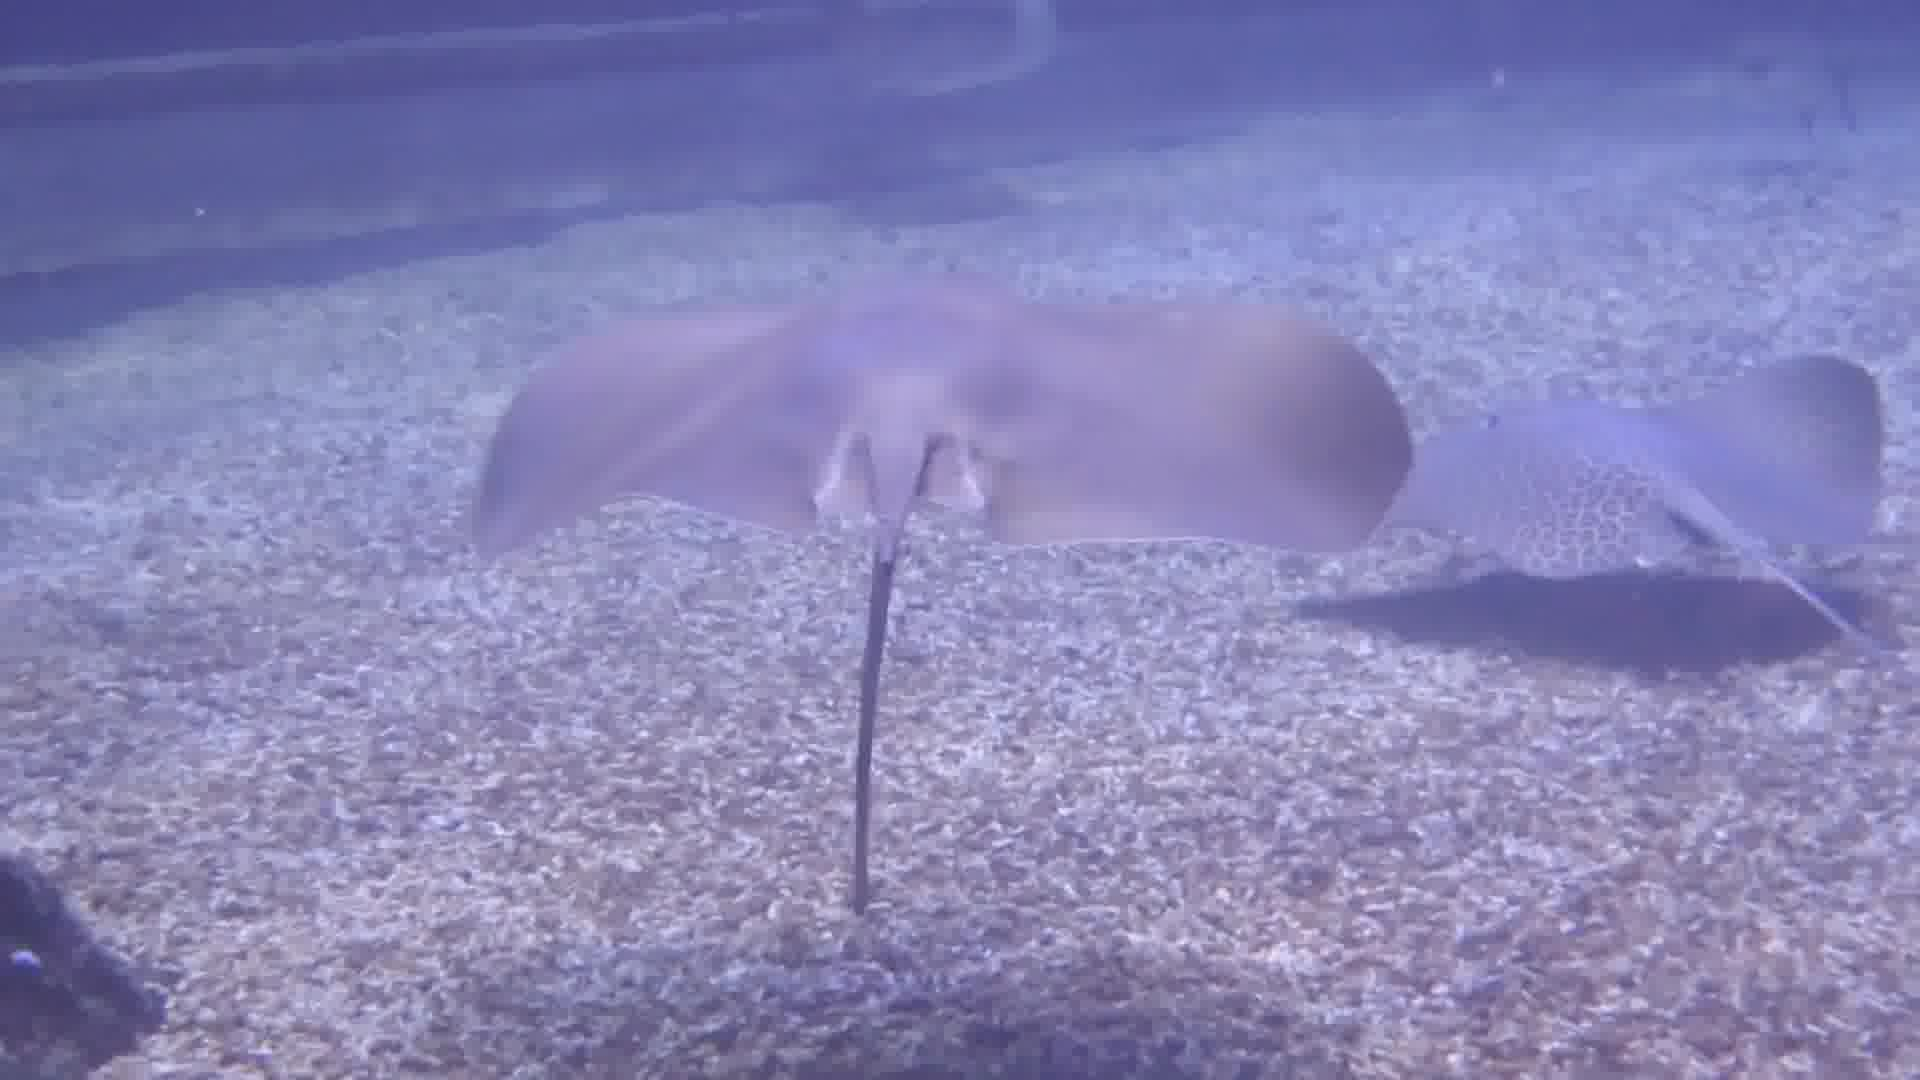Dasyatis akajei: (463, 107, 1411, 938)
